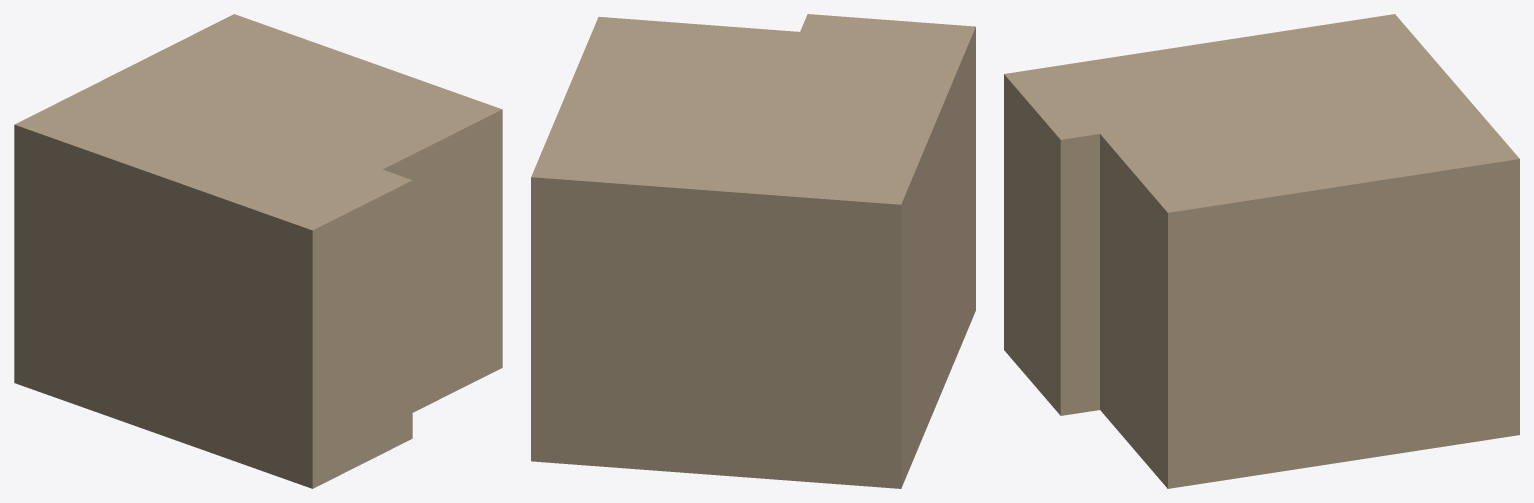
Rendered from bld_106456387.dae.
3 renders of one model, left to right at view 1: azimuth 30°, elevation 25°; view 2: azimuth 150°, elevation 25°; view 3: azimuth 270°, elevation 25°, orthographic. The views are drawn at different scales.
Parts seen in each view (by area): view 1: bld_106456387; view 2: bld_106456387; view 3: bld_106456387.
Part boxes in pixels (x1,y1,x2,y2): bld_106456387: [14, 14, 502, 488]; bld_106456387: [531, 14, 975, 488]; bld_106456387: [1004, 14, 1519, 488].
Size of the model in its own units: 12.36 by 13.55 by 8.
